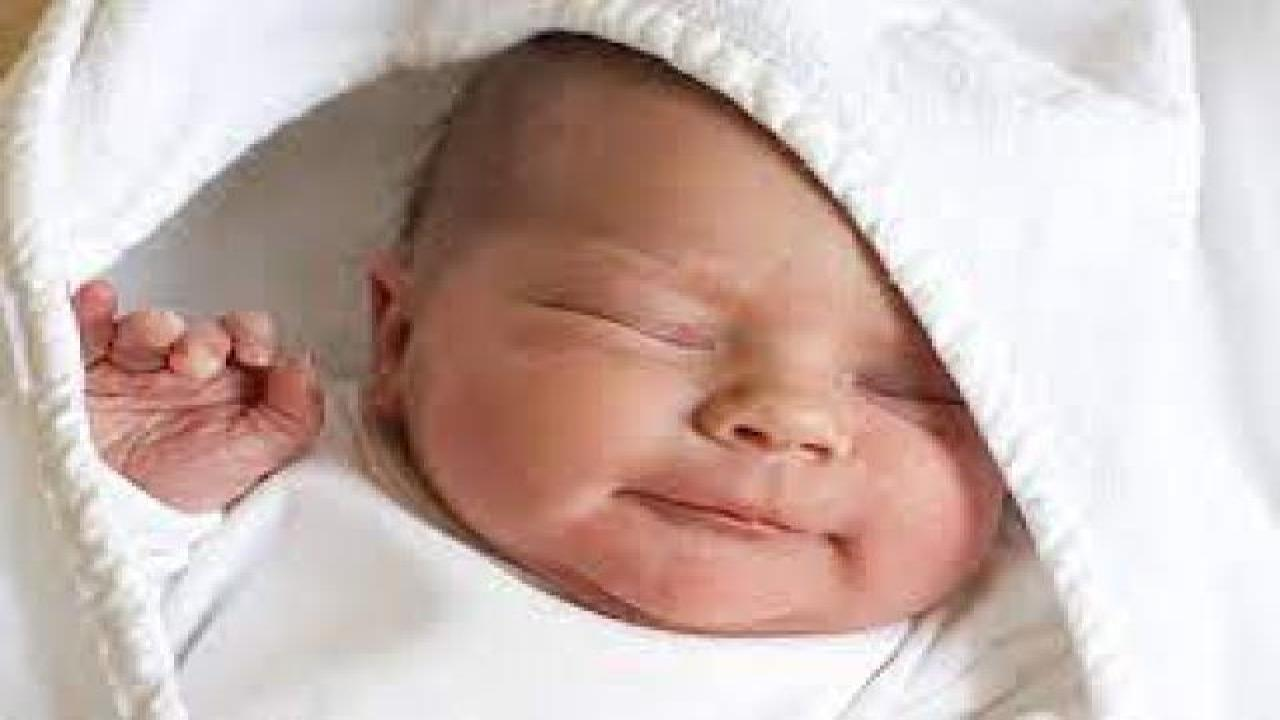hand: (71, 277, 328, 511)
